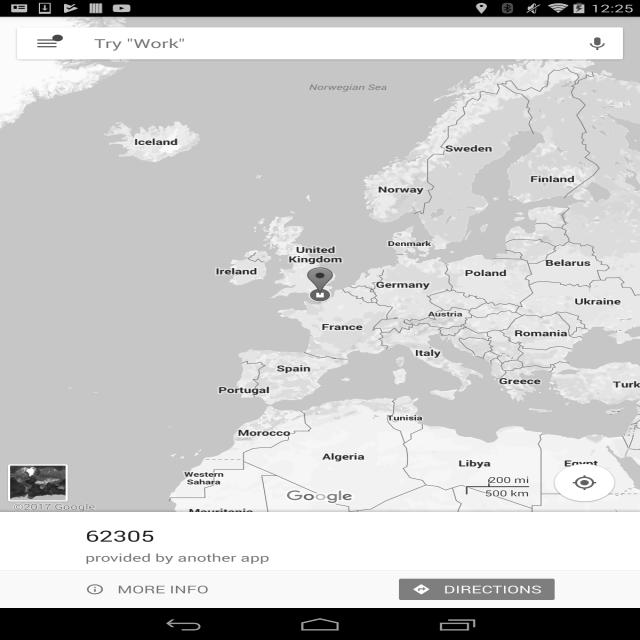Button: (388, 574, 570, 604)
ImageButton: (550, 462, 616, 502), (27, 31, 70, 51), (580, 33, 612, 52)
ImageView: (37, 80, 607, 442)
TextView: (77, 550, 279, 568), (111, 578, 213, 597), (87, 34, 185, 52), (83, 524, 160, 544)
